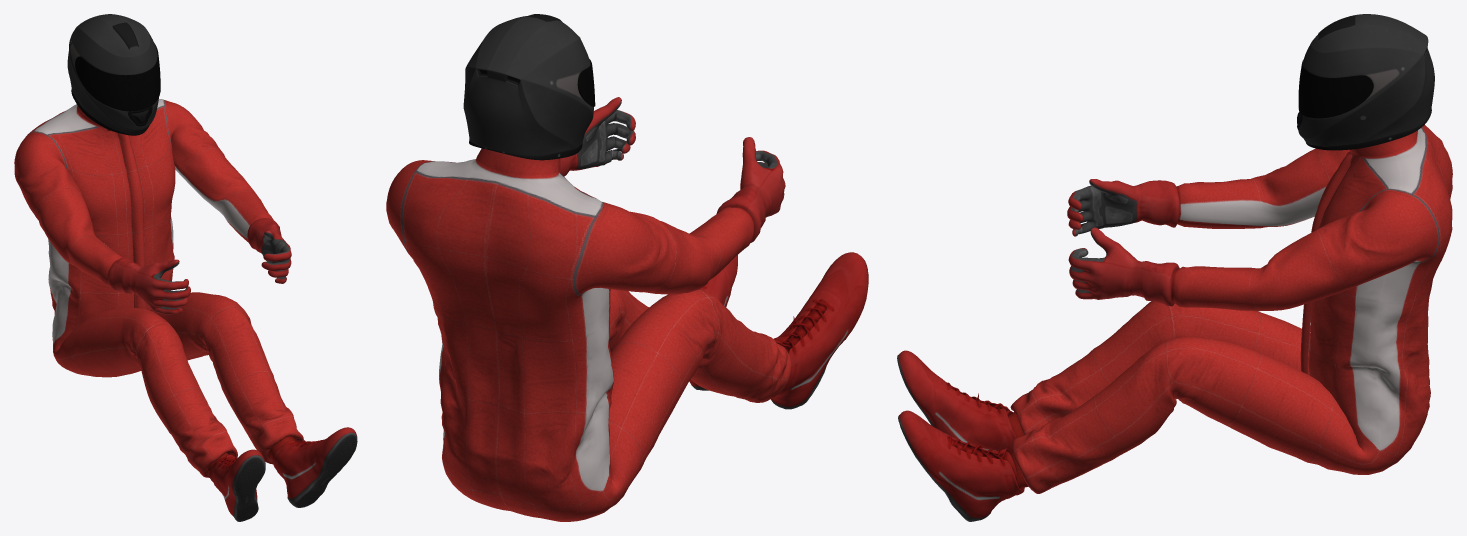
The model's file is racer.fbx.
3 views of the same model, side by side, from view 1: azimuth 30°, elevation 25°; view 2: azimuth 150°, elevation 25°; view 3: azimuth 270°, elevation 25° (orthographic). The views are drawn at different scales.
Parts seen in each view (by area): view 1: Ch20; view 2: Ch20; view 3: Ch20.
Boxes of the visible parts, x1,y1,x2,y2 form: Ch20: (14, 14, 357, 521); Ch20: (386, 14, 868, 521); Ch20: (897, 14, 1452, 521).
Bounding box in the file's own units: 53.99 × 102 × 107.
